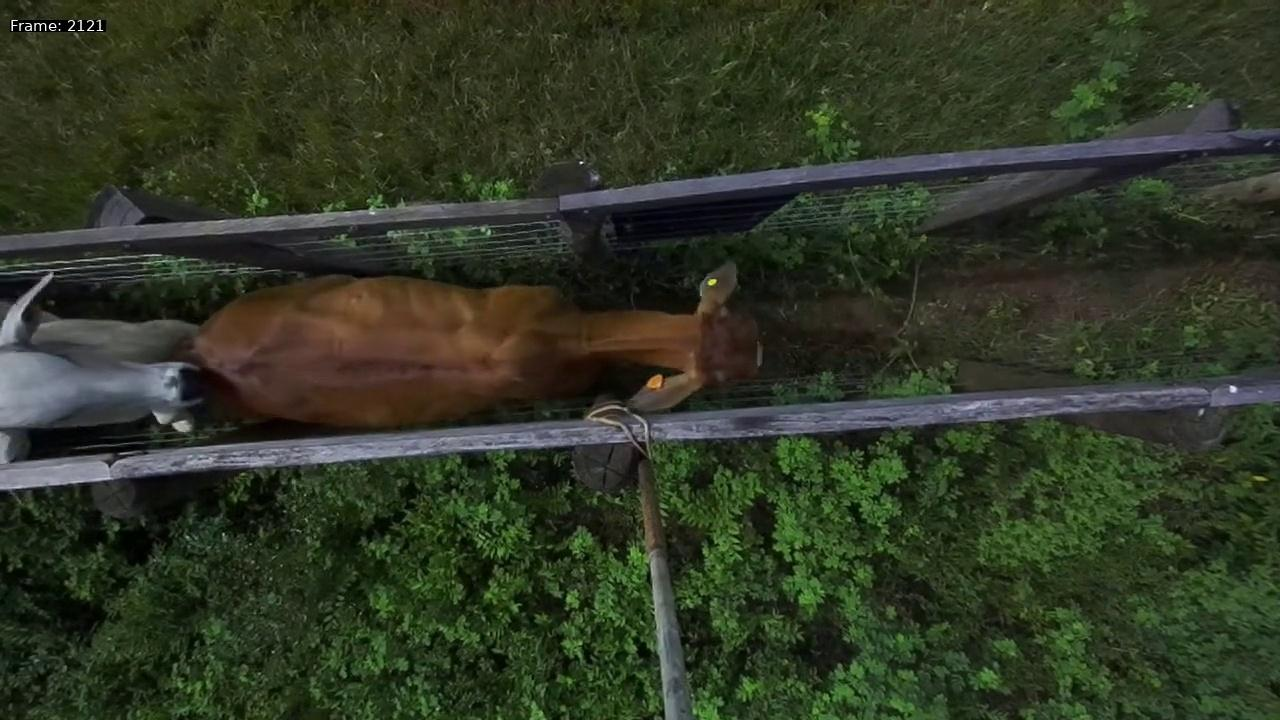cattle: (190, 229, 795, 468)
